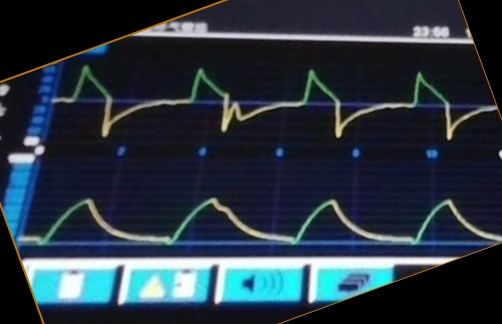Premature_cycling Flow: (67, 60, 479, 141)
Premature_cycling Volume: (38, 176, 477, 250)
